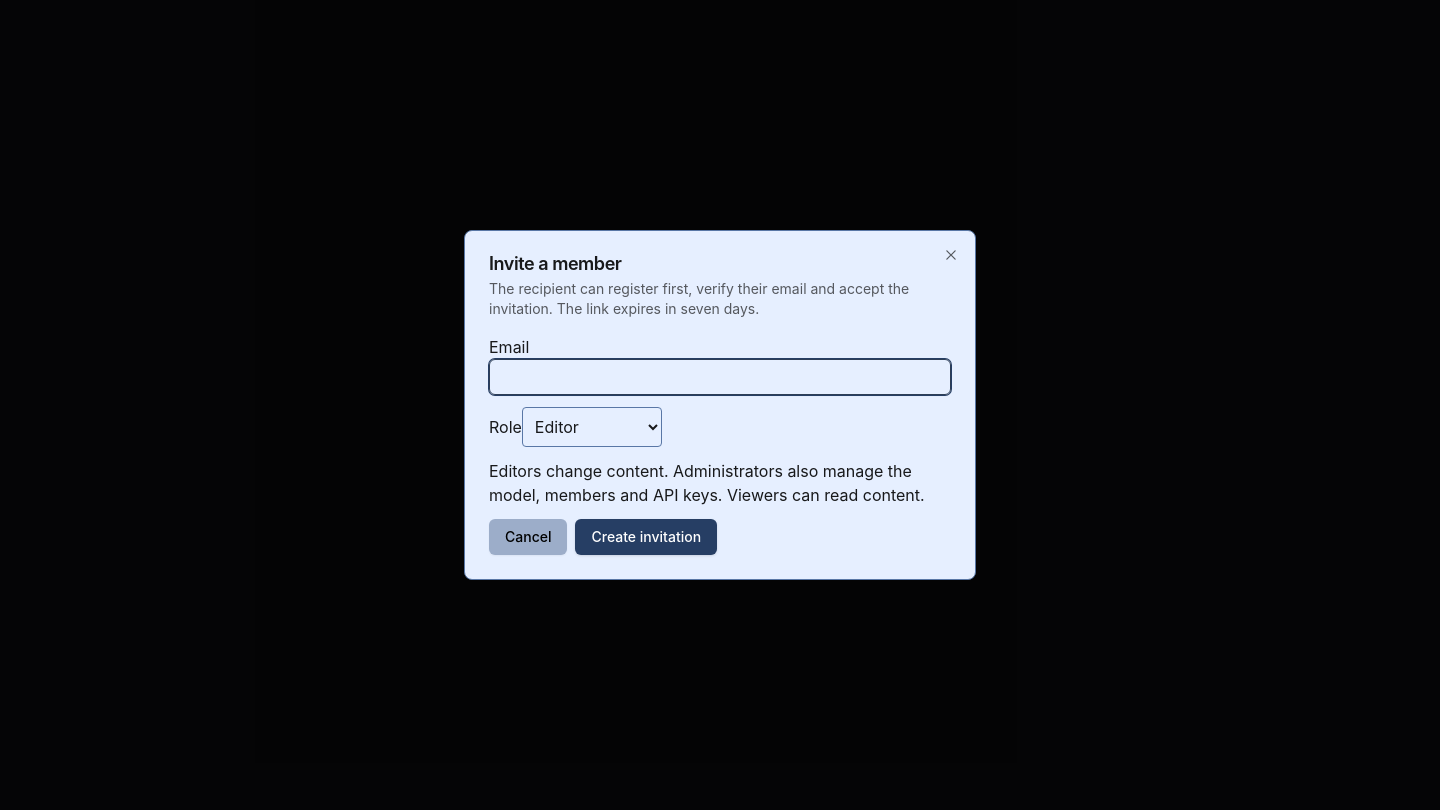
Test: failed invitation creation retains the address and selected role for retry
Type "new@example.invalid" into the field labelled "Email" at [720, 377], box top-left (489, 359), bottom-right (951, 395)
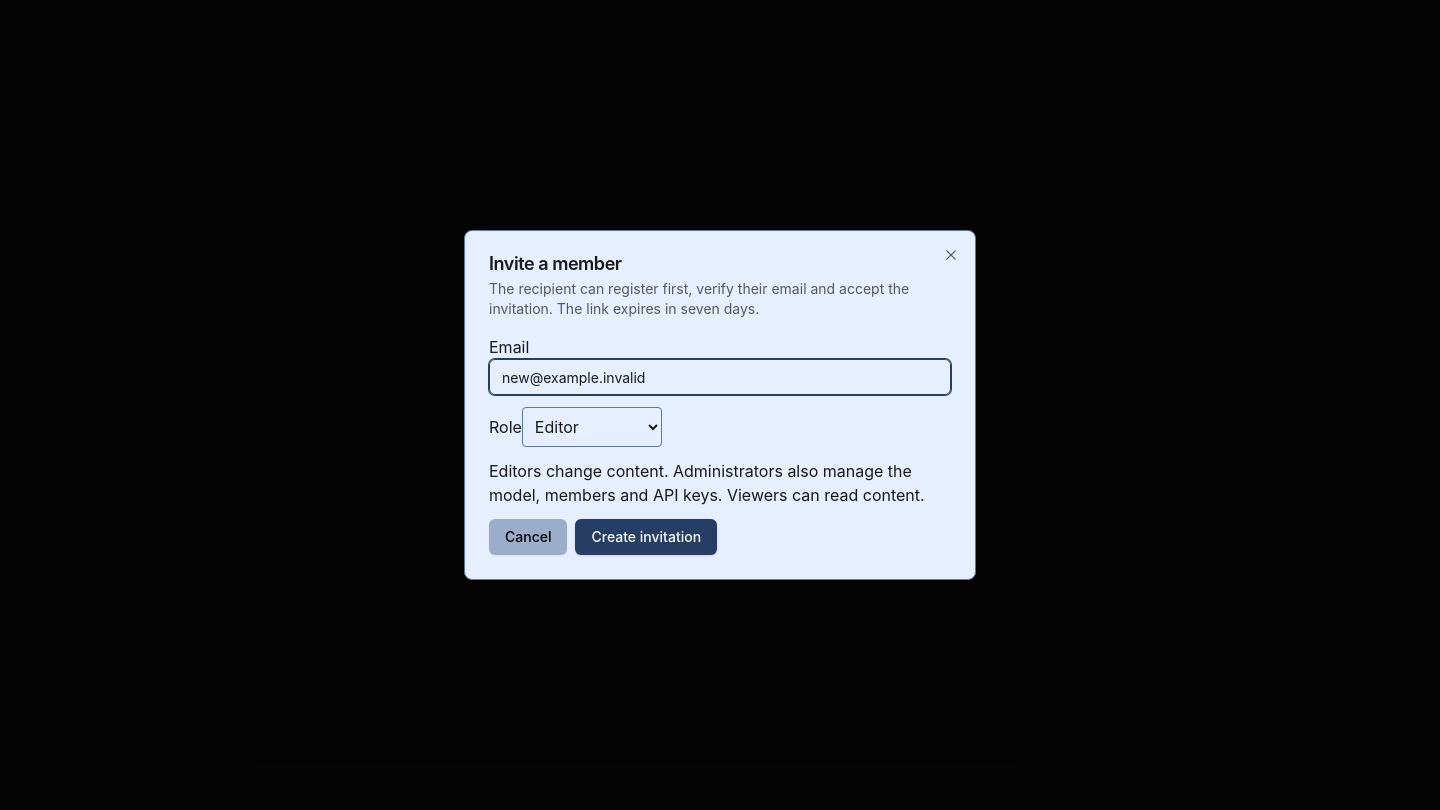
Select "Viewer" in the dropdown labelled "Role" at [592, 427], box top-left (522, 407), bottom-right (662, 447)
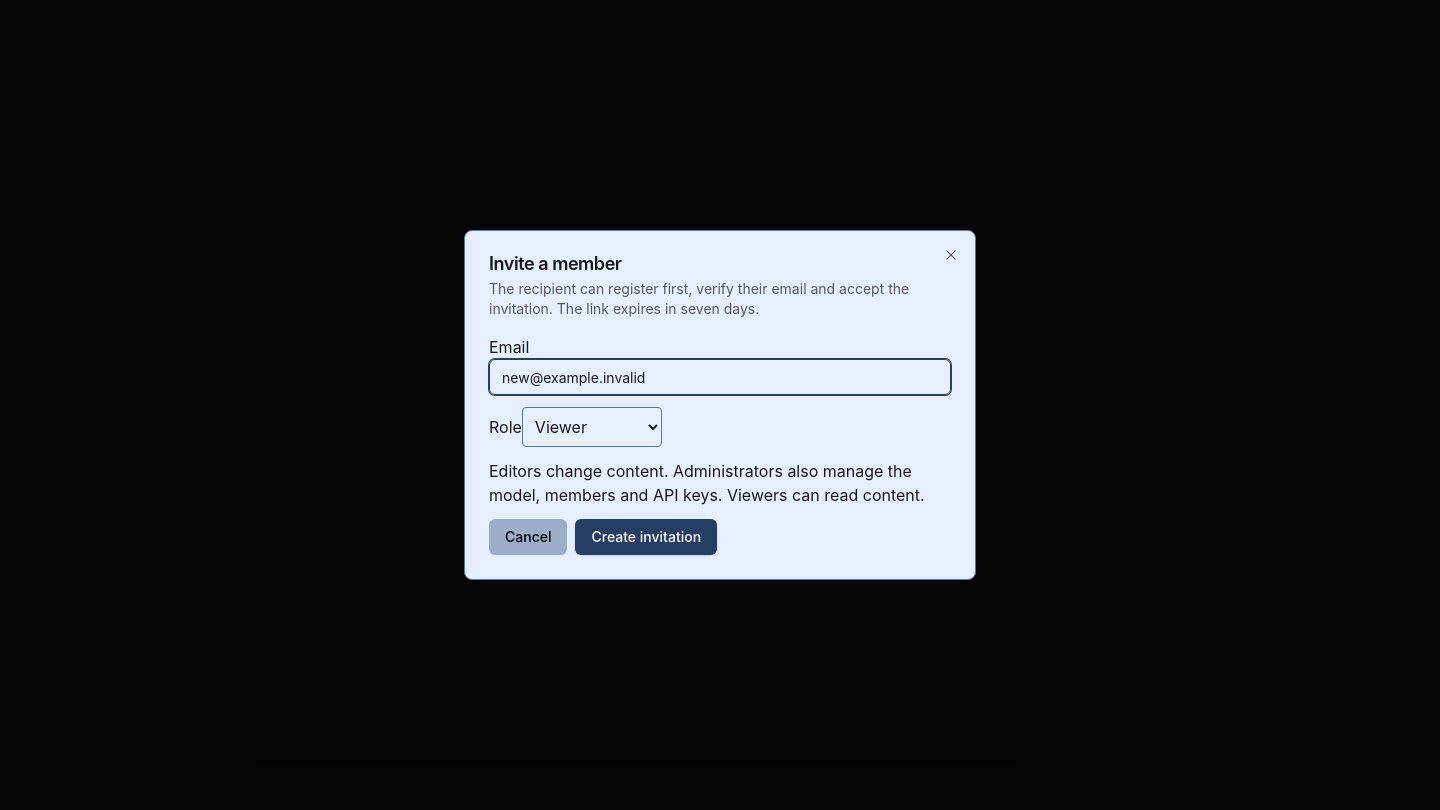
Click the button "Create invitation" at [646, 537], box top-left (576, 519), bottom-right (717, 555)
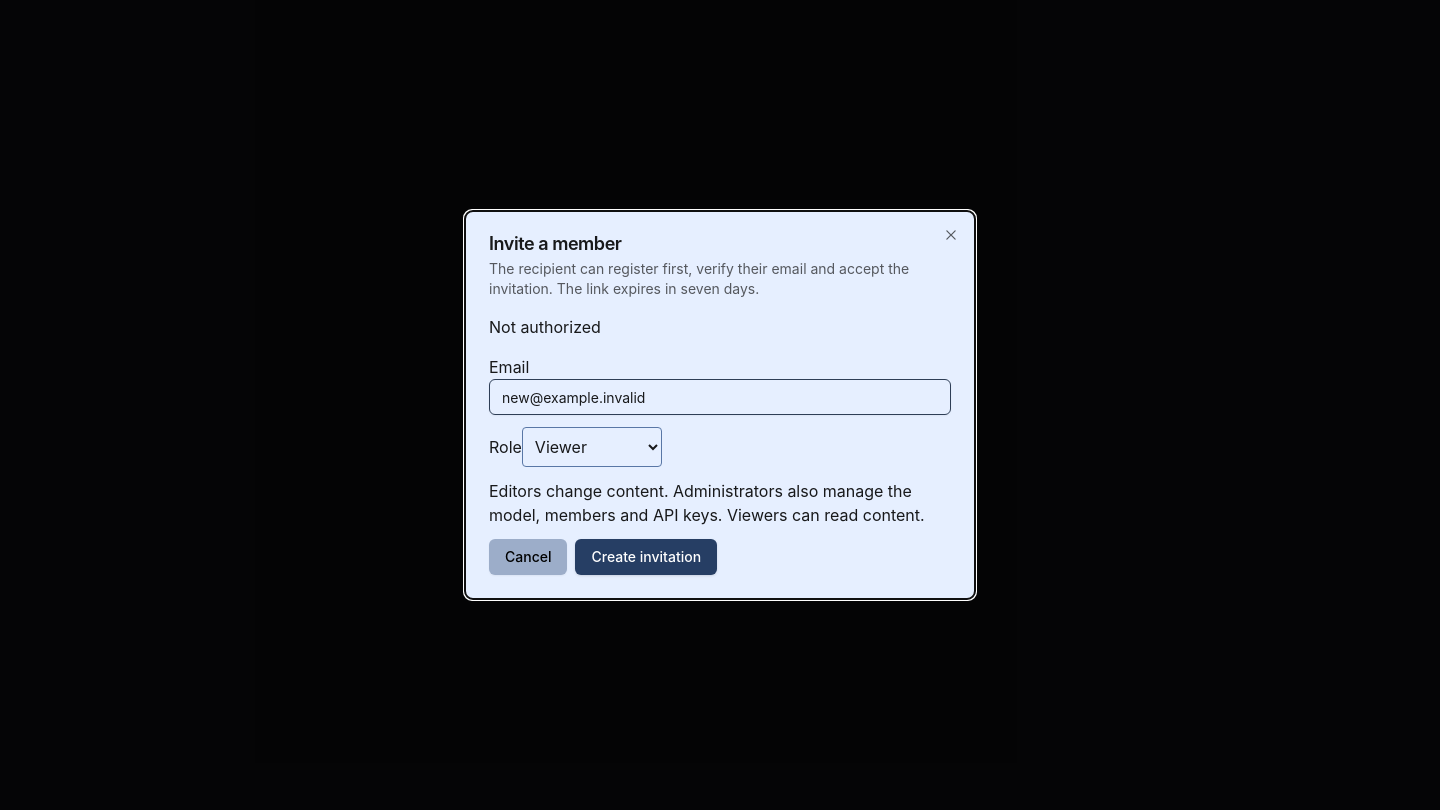
Check: the message reads "Not authorized", box top-left (489, 317), bottom-right (601, 337)
